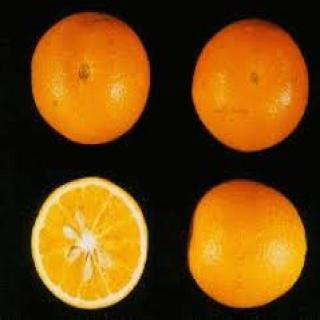orange: (13, 157, 160, 320), (181, 166, 320, 320), (13, 10, 163, 150), (180, 3, 314, 159)
